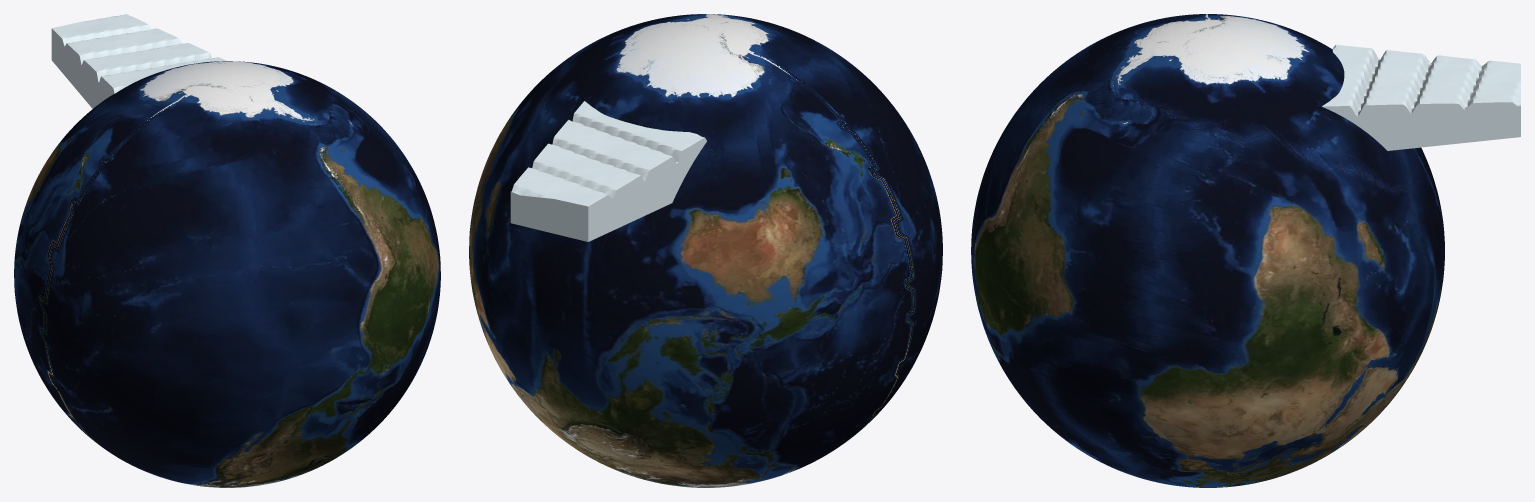
The model's file is thermohaline.glb.
3 views of the same model, side by side, from view 1: azimuth 30°, elevation 25°; view 2: azimuth 150°, elevation 25°; view 3: azimuth 270°, elevation 25° (orthographic). The views are drawn at different scales.
Visible parts, largest first — view 1: TH_Earth, TH_Ice; view 2: TH_Earth, TH_Ice; view 3: TH_Earth, TH_Ice.
Boxes of the visible parts, x1=… form: TH_Earth: x1=14, y1=61, x2=440, y2=487; TH_Ice: x1=51, y1=14, x2=226, y2=108; TH_Earth: x1=469, y1=14, x2=942, y2=487; TH_Ice: x1=510, y1=101, x2=706, y2=241; TH_Earth: x1=971, y1=14, x2=1444, y2=487; TH_Ice: x1=1322, y1=44, x2=1520, y2=150.
Bounding box in the file's own units: 2 × 2 × 2.32.
Materials: 2 (1 with a texture image).
